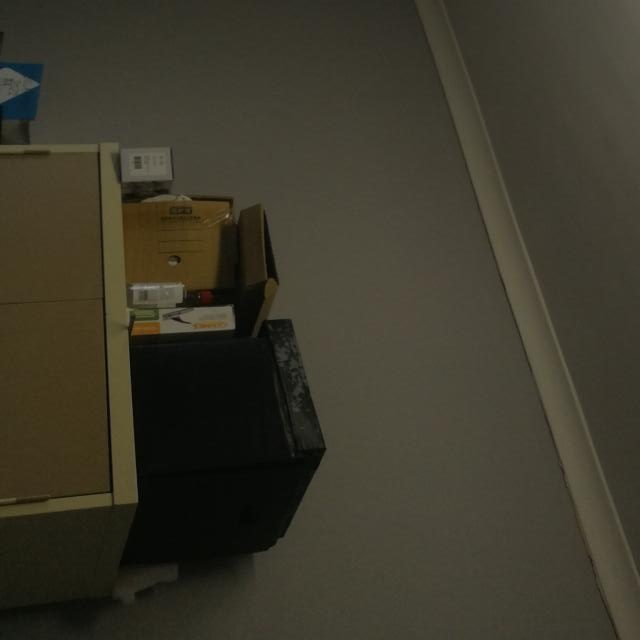fluorescent tube: (609, 0, 640, 313)
